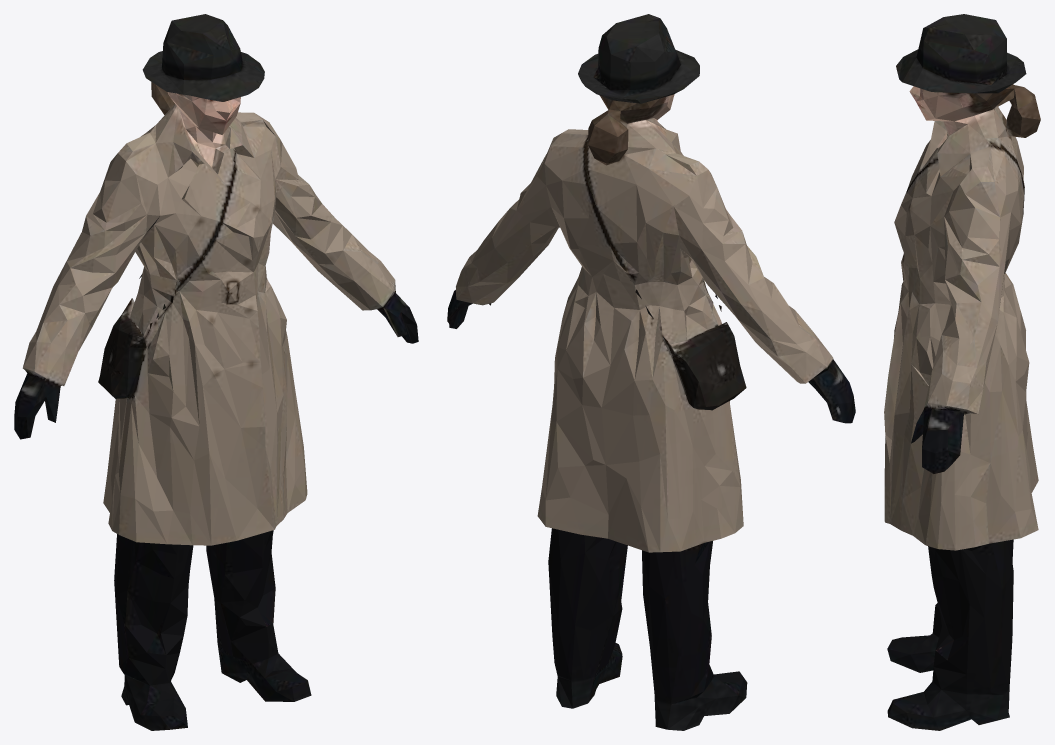
File: realistic-cc0.f77cec64a90b.spy.glb
3 views of the same model, side by side, from view 1: azimuth 30°, elevation 25°; view 2: azimuth 150°, elevation 25°; view 3: azimuth 270°, elevation 25° (orthographic).
Parts seen in each view (by area): view 1: spy; view 2: spy; view 3: spy.
Part boxes in pixels (x1,y1,x2,y2): spy: (14, 14, 418, 730); spy: (447, 14, 855, 730); spy: (884, 14, 1040, 730).
Bounding box in the file's own units: 1.08 × 1.75 × 0.3711.
Materials: 1 (1 with a texture image).
